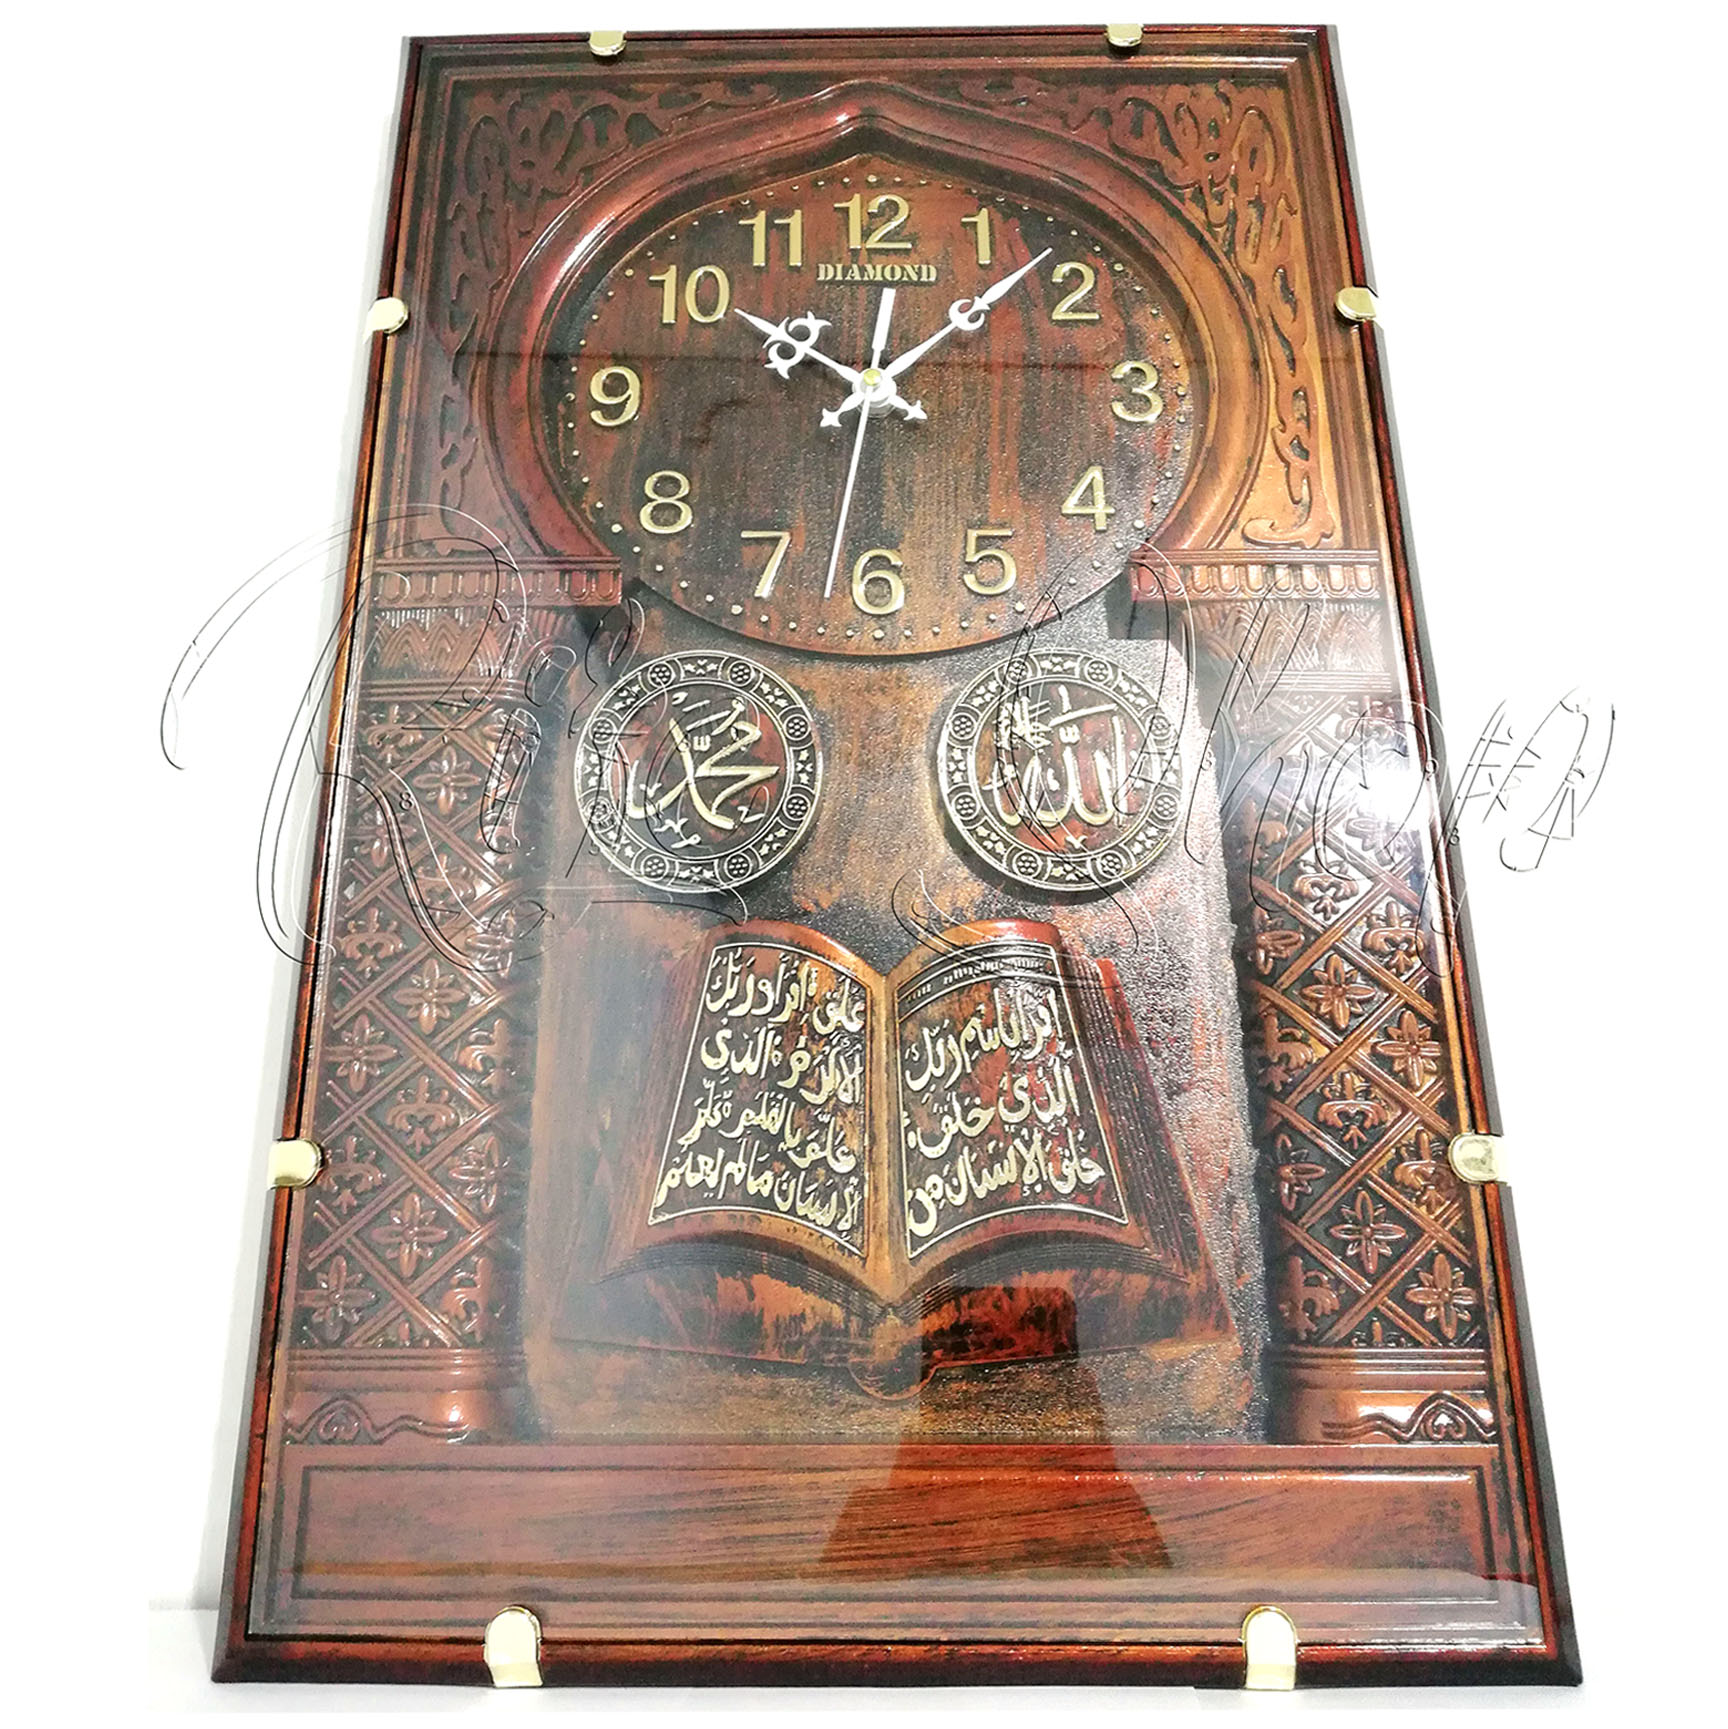jam dinding: (479, 82, 1195, 725)
